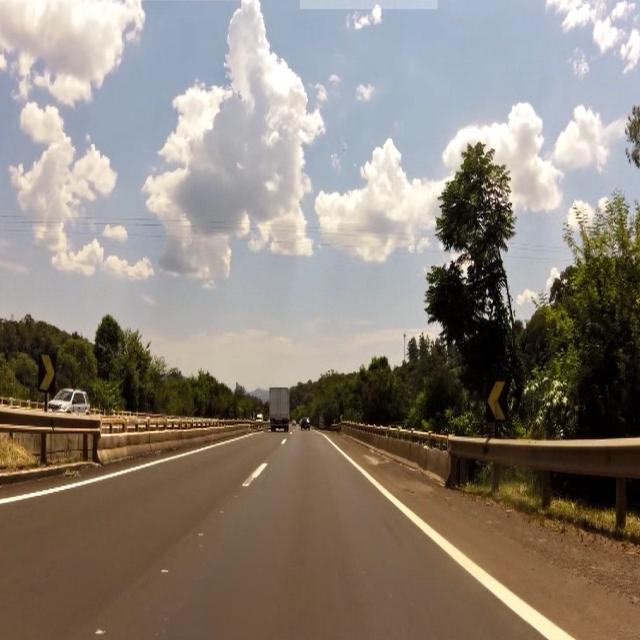Del: (488, 376, 510, 424), (41, 351, 58, 401)
